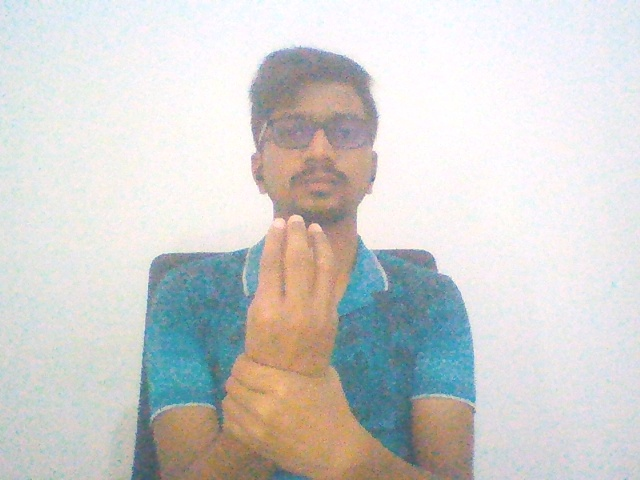tree: (215, 199, 390, 480)
